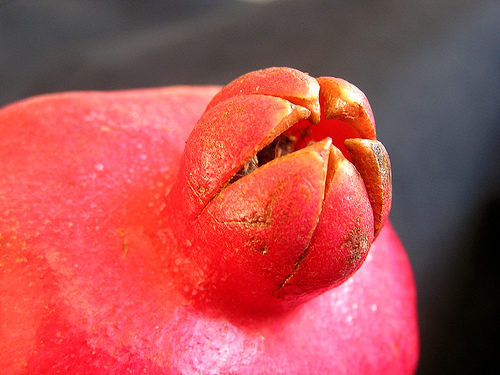pomogranate: (0, 65, 416, 374)
